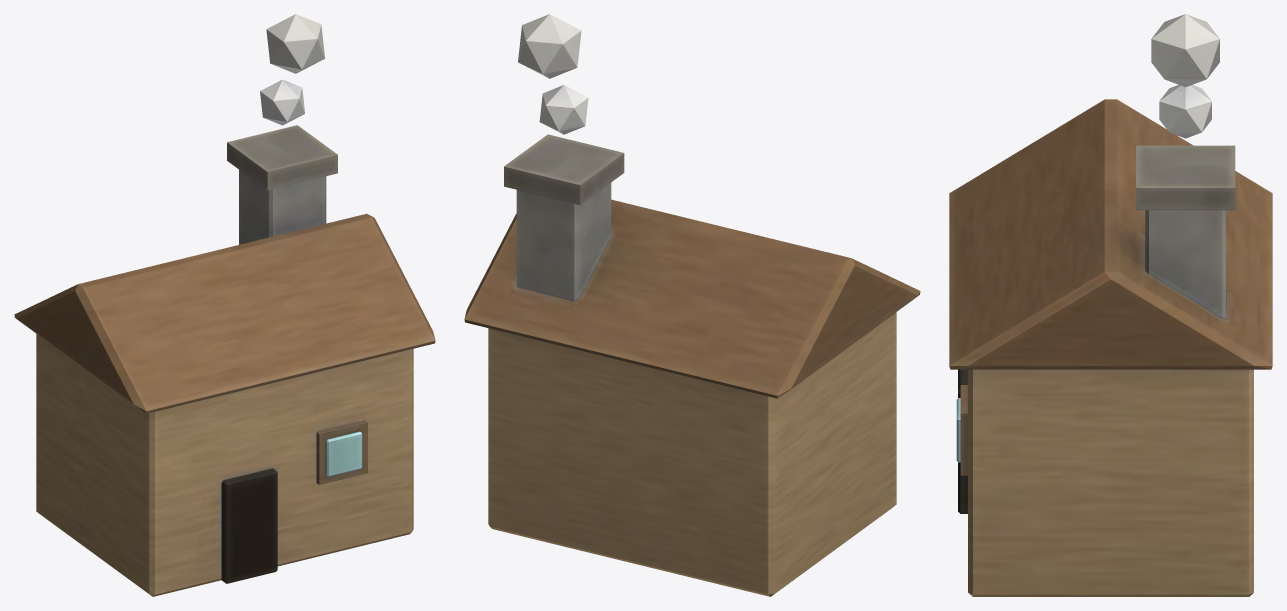
Rendered from smokehouse-1-age1.glb.
3 renders of one model, left to right at view 1: azimuth 30°, elevation 25°; view 2: azimuth 150°, elevation 25°; view 3: azimuth 270°, elevation 25°, orthographic. The views are drawn at different scales.
Parts seen in each view (by area): view 1: smokehouse-1-age1; view 2: smokehouse-1-age1; view 3: smokehouse-1-age1.
Part boxes in pixels (x1,y1,x2,y2): smokehouse-1-age1: (14, 14, 435, 596); smokehouse-1-age1: (464, 14, 920, 596); smokehouse-1-age1: (949, 14, 1272, 596).
Bounding box in the file's own units: 0.68 × 1 × 0.52.
Materials: 1 (1 with a texture image).
